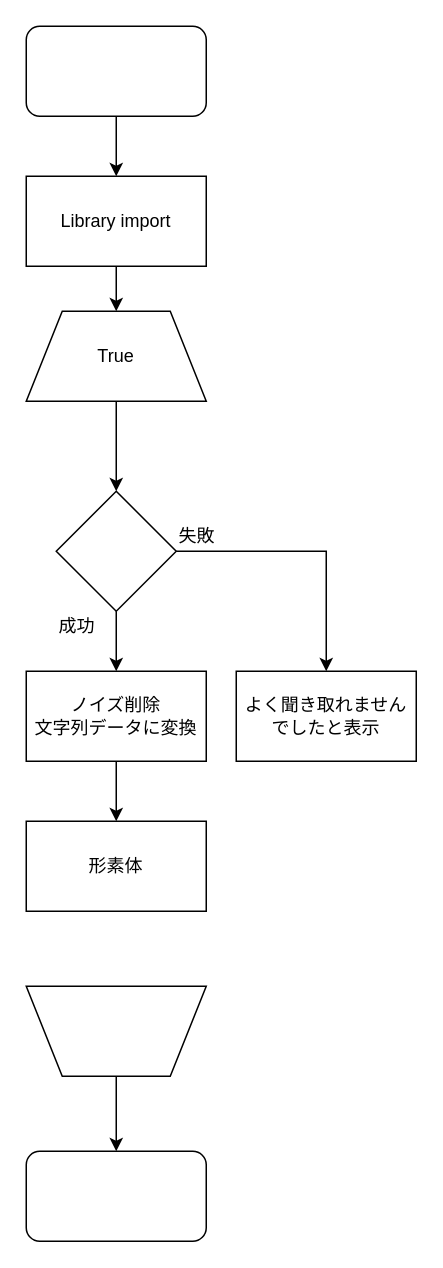
This 443x1268 diagram has some shape labels left out. Each missing label, with the centre of its shape:
"End" belongs at (115,1195).
"Start" belongs at (115,70).
"音声認識" belongs at (115,550).
